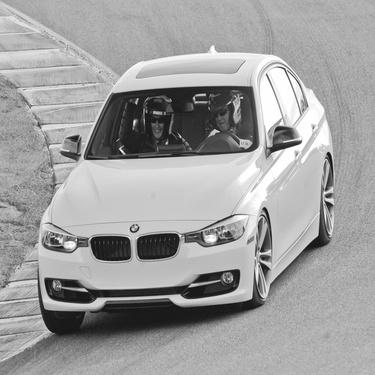car: (29, 41, 343, 339)
